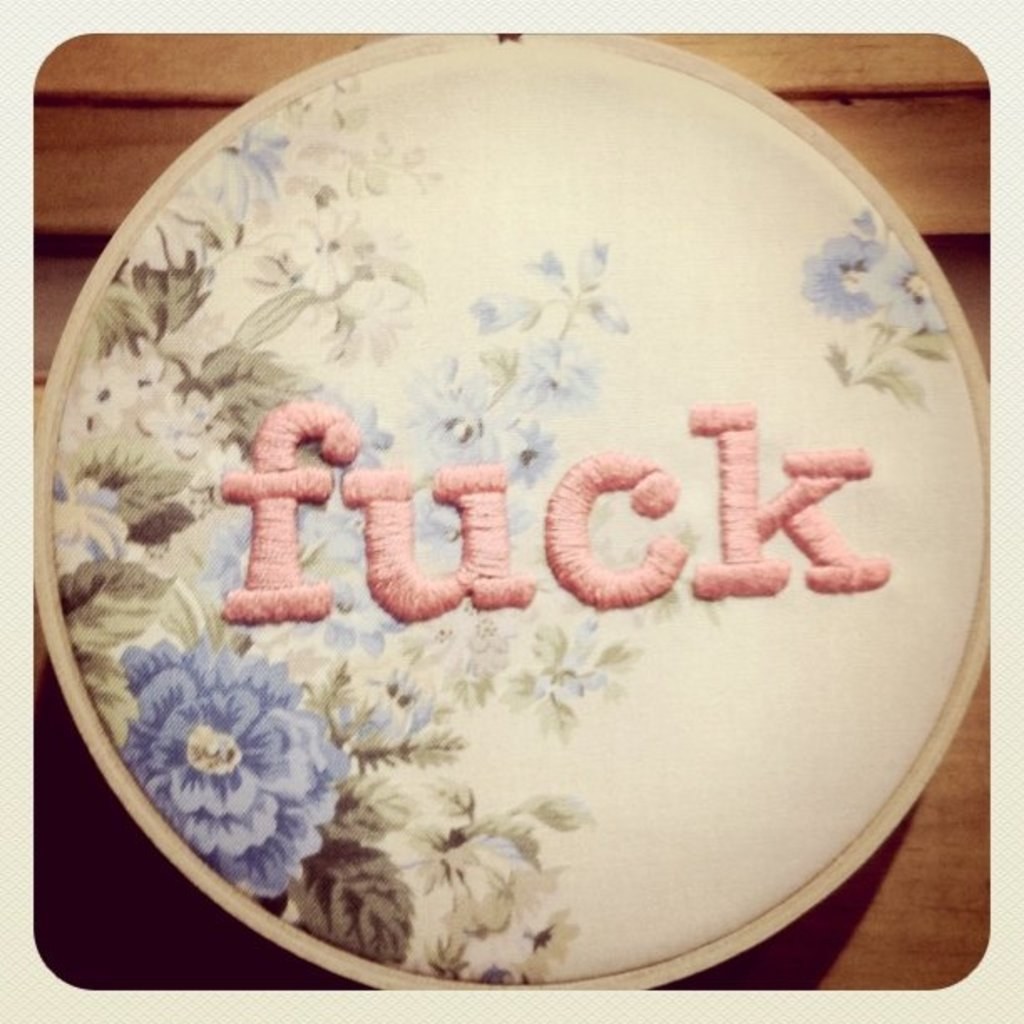plate: (33, 33, 991, 992)
